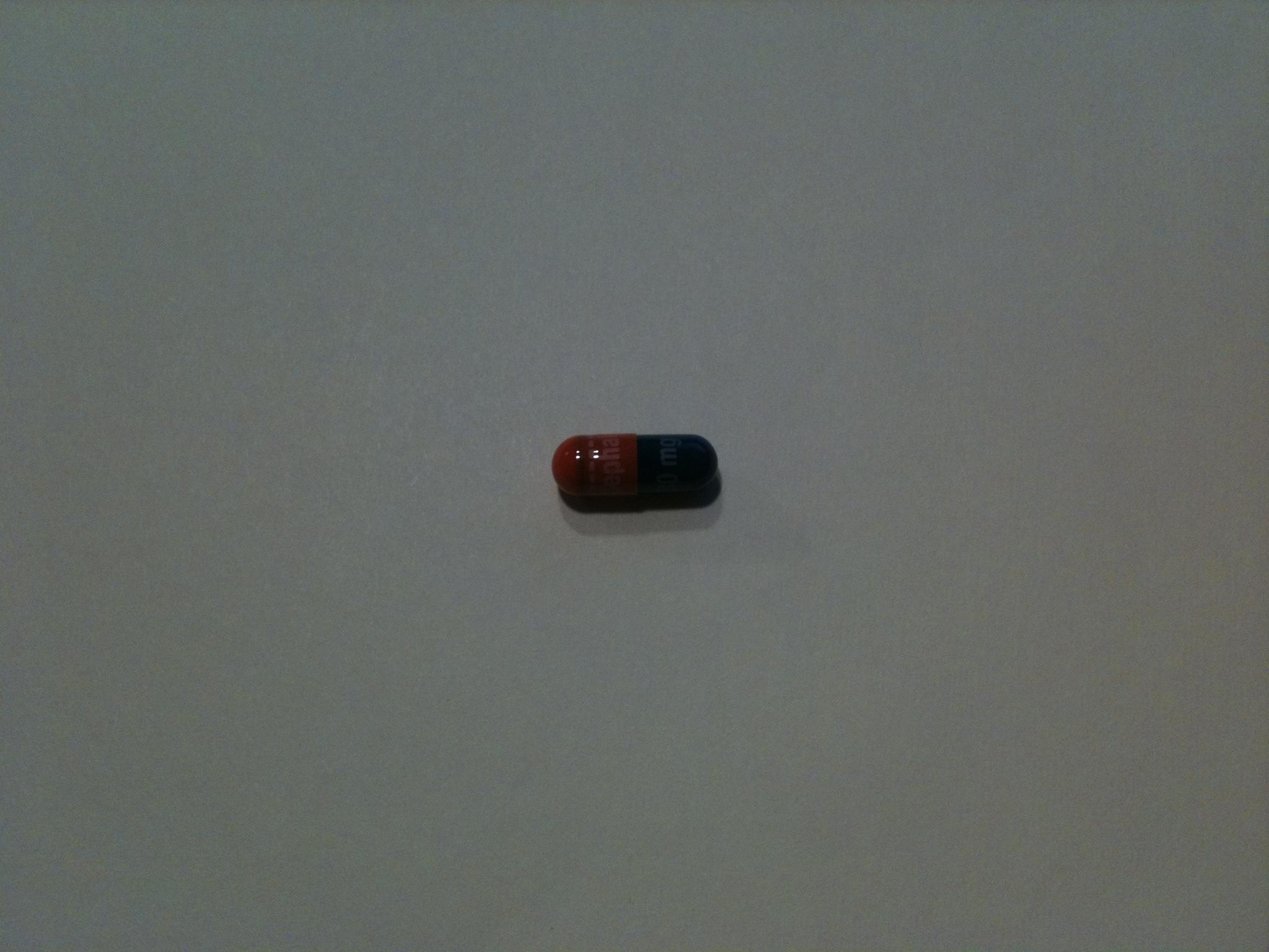Pill: (543, 421, 738, 524)
